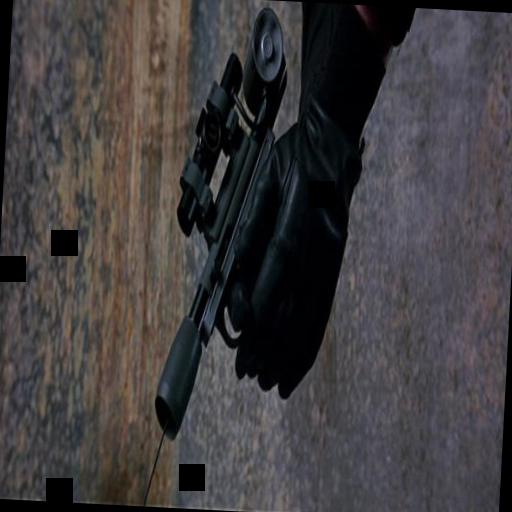Handgun: (140, 0, 322, 454)
